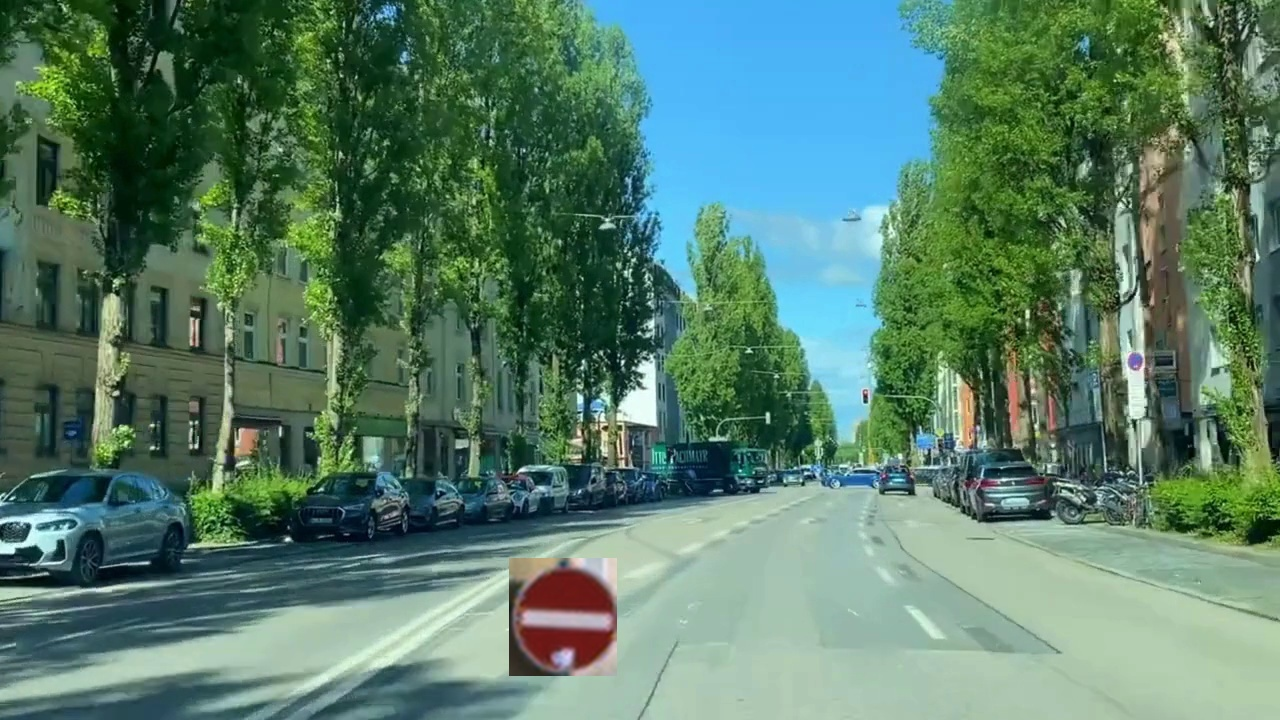No entry: (509, 558, 617, 676)
